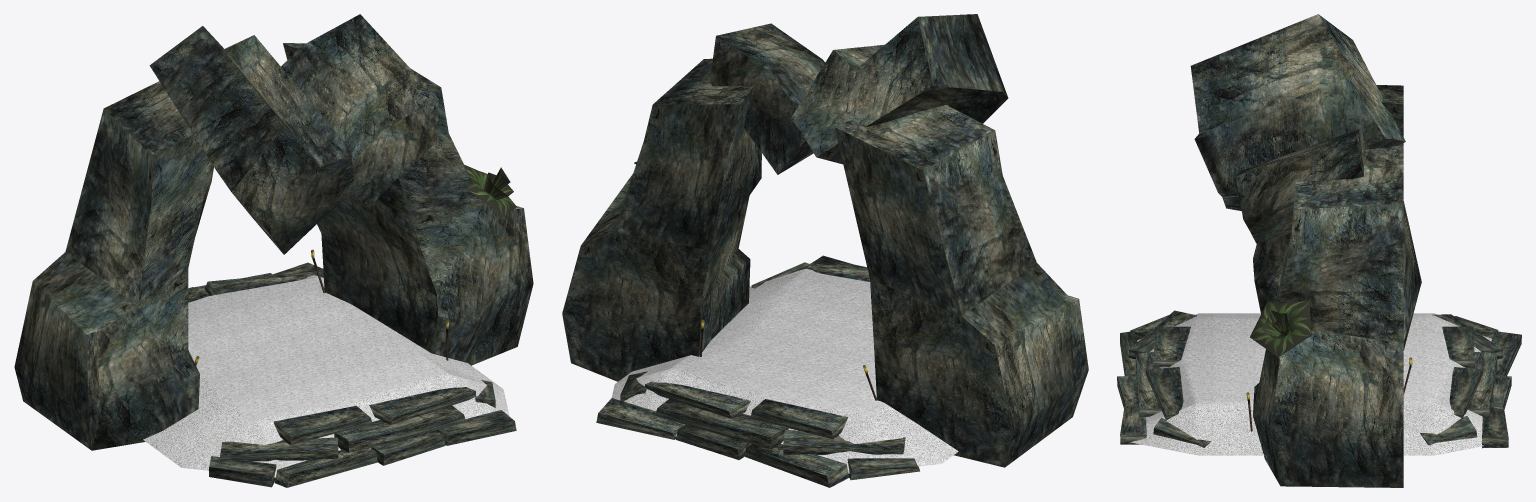
The model's file is tunnelcap_beach_cave.fbx.
The picture shows the model from 3 angles, left to right: view 1: azimuth 30°, elevation 25°; view 2: azimuth 150°, elevation 25°; view 3: azimuth 270°, elevation 25°; orthographic projection. The views are drawn at different scales.
Visible parts, largest first — view 1: columnL, floor2, columnR, top_big1, topSmall, pCube4.001, pCube7.001, pCube9.001, pCube8.001, pCube3.001, pCube1.001, pCube6.001 (+3 smaller); view 2: columnL, columnR, floor2, top_big1, topSmall, pCube4, pCube3, pCube9, pCube7, pCube1, pCube8, pCube2 (+2 smaller); view 3: columnR, top_big1, floor2, topSmall, columnL, leaves_4, pCube8.001, pCube9.001, pCube4, pCube8, pCube9, pCube4.001 (+10 smaller).
Boxes of the visible parts, x1,y1,x2,y2 form: columnL: (14,81,213,450); floor2: (143,275,509,477); columnR: (283,43,533,365); top_big1: (149,26,355,254); topSmall: (281,14,438,206); pCube4.001: (334,405,466,452); pCube7.001: (220,437,338,461); pCube9.001: (273,405,372,445); pCube8.001: (369,387,475,424); pCube3.001: (275,447,377,487); pCube1.001: (436,410,516,445); pCube6.001: (209,456,276,487); columnL: (834,105,1088,467); columnR: (562,58,761,381); floor2: (611,268,958,473); top_big1: (790,14,1008,164); topSmall: (710,23,825,174); pCube4: (655,399,788,449); pCube3: (744,443,849,487); pCube9: (750,399,847,439); pCube7: (783,430,905,455); pCube1: (596,398,683,439); pCube8: (645,381,750,418); pCube2: (676,424,750,459); columnR: (1253,145,1421,487); top_big1: (1190,14,1405,210); floor2: (1130,313,1491,455); topSmall: (1235,129,1369,243); columnL: (1253,85,1403,313); leaves_4: (1250,301,1311,357); pCube8.001: (1146,367,1183,419); pCube9.001: (1153,326,1190,367); pCube4: (1467,352,1497,416); pCube8: (1449,367,1482,417); pCube9: (1442,326,1474,367); pCube4.001: (1135,352,1161,416).
Size of the model in its own units: 6078 by 5045 by 5279.
Materials: 4 (4 with a texture image).
